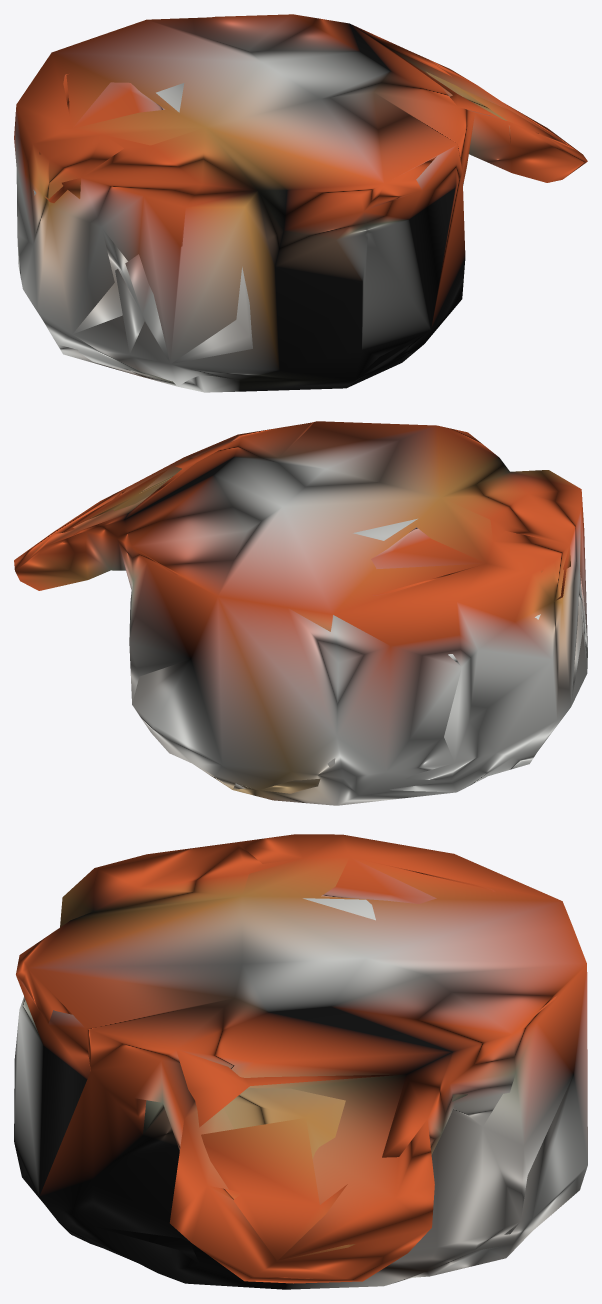
Rendered from gen3d-sushi-lod1.glb.
3 views of the same model, one above another, from view 1: azimuth 30°, elevation 25°; view 2: azimuth 150°, elevation 25°; view 3: azimuth 270°, elevation 25° (orthographic). The views are drawn at different scales.
Parts seen in each view (by area): view 1: part_0; view 2: part_0; view 3: part_0.
Part boxes in pixels (x1,y1,x2,y2): part_0: (14, 14, 587, 392); part_0: (14, 421, 587, 805); part_0: (14, 834, 587, 1289).
Size of the model in its own units: 2.48 by 0.9976 by 1.91.
